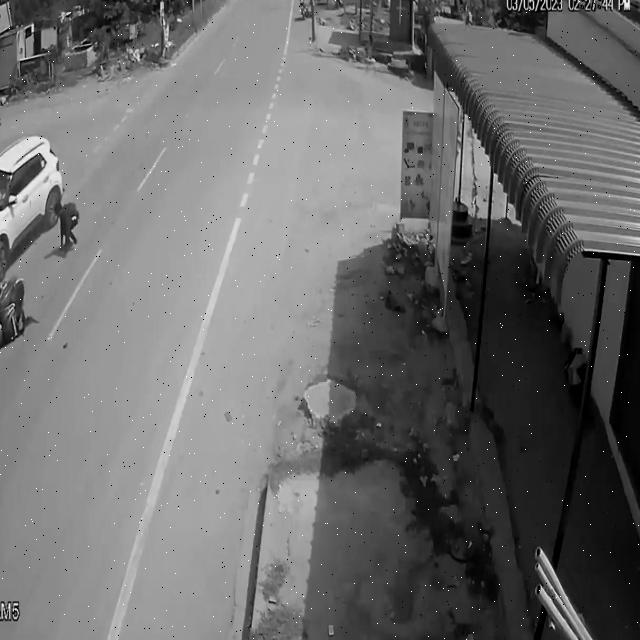accident: (0, 112, 86, 372)
